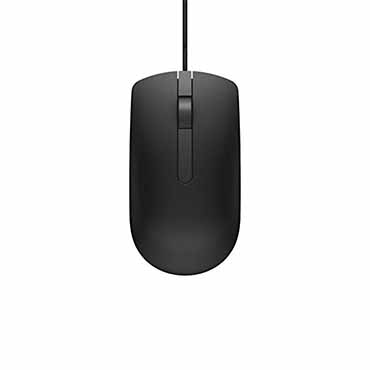dell-mouse-ms116: (130, 2, 242, 279)
